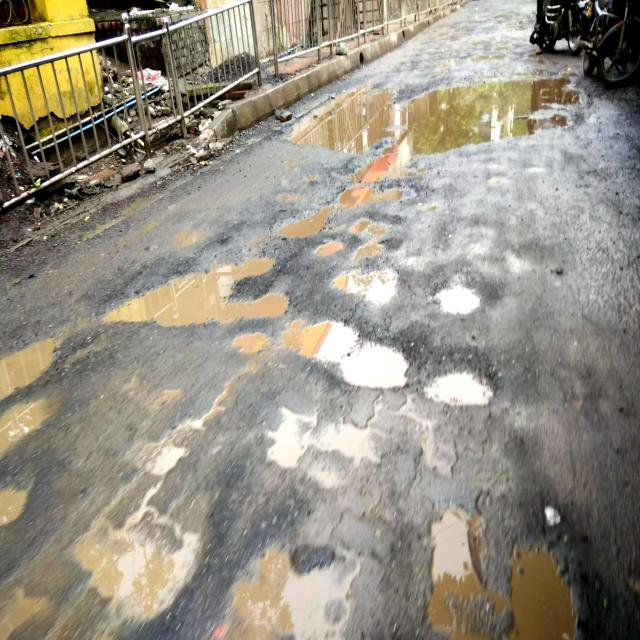pothole: (71, 495, 198, 640), (422, 67, 582, 182), (204, 532, 372, 640), (103, 246, 293, 333), (260, 401, 390, 502), (280, 82, 420, 166), (122, 384, 242, 478), (286, 310, 413, 397), (418, 508, 501, 640), (500, 516, 580, 640), (0, 308, 88, 410), (422, 355, 502, 422), (331, 258, 400, 310), (0, 581, 56, 640), (426, 277, 490, 324), (417, 430, 462, 487), (272, 199, 332, 240), (0, 475, 34, 537), (228, 332, 274, 361)
